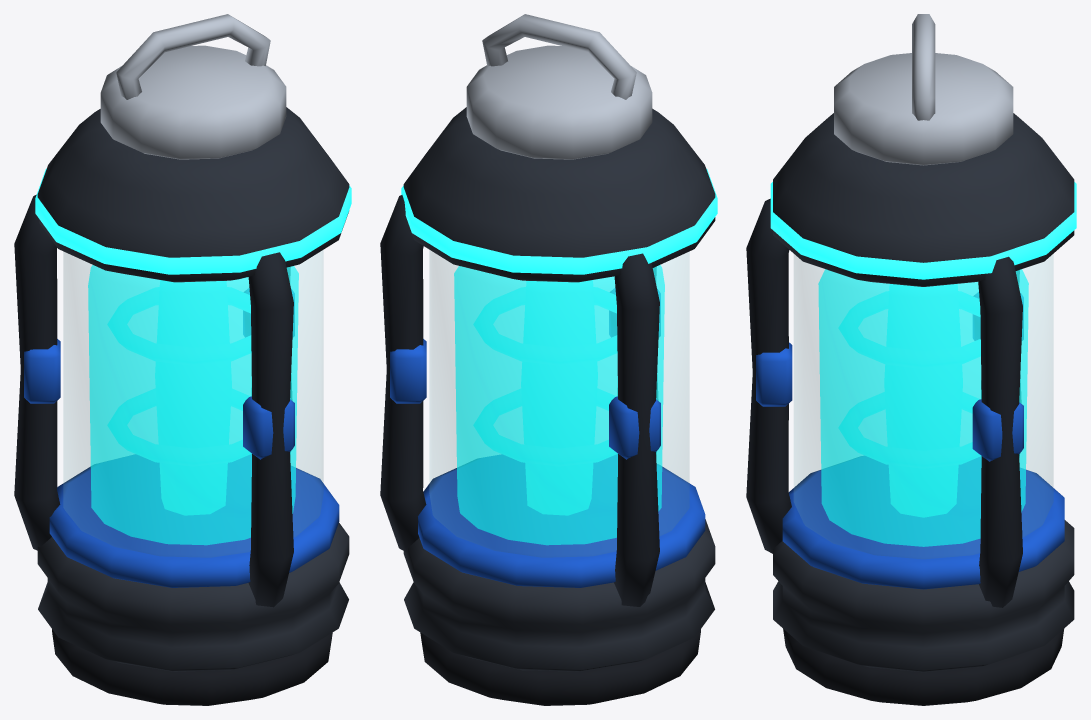
The model's file is item_shield_cell.glb.
3 views of the same model, side by side, from view 1: azimuth 30°, elevation 25°; view 2: azimuth 150°, elevation 25°; view 3: azimuth 270°, elevation 25° (orthographic).
Parts seen in each view (by area): view 1: GlassViewport, CyanLiquidCore, UpperCap, LowerCap, LowerCobaltRing, ValveTopCap, InnerPlasmaColumn, ArmorStrut_2, ArmorStrut_1, BaseRubberPad, UpperChargeLED, TopClipBail (+4 smaller); view 2: GlassViewport, CyanLiquidCore, UpperCap, LowerCap, LowerCobaltRing, ValveTopCap, InnerPlasmaColumn, ArmorStrut_1, ArmorStrut_0, BaseRubberPad, UpperChargeLED, TopClipBail (+4 smaller); view 3: GlassViewport, CyanLiquidCore, UpperCap, LowerCap, LowerCobaltRing, ValveTopCap, InnerPlasmaColumn, ArmorStrut_0, ArmorStrut_2, BaseRubberPad, UpperChargeLED, CoreEnergyRing_1 (+4 smaller).
Part boxes in pixels (bbox=[...]): GlassViewport: bbox=[64, 251, 322, 556]; CyanLiquidCore: bbox=[88, 265, 298, 545]; UpperCap: bbox=[37, 107, 349, 282]; LowerCap: bbox=[37, 523, 349, 671]; LowerCobaltRing: bbox=[49, 454, 339, 587]; ValveTopCap: bbox=[100, 45, 286, 159]; InnerPlasmaColumn: bbox=[155, 280, 231, 514]; ArmorStrut_2: bbox=[248, 252, 293, 607]; ArmorStrut_1: bbox=[14, 194, 60, 550]; BaseRubberPad: bbox=[52, 629, 332, 705]; UpperChargeLED: bbox=[35, 168, 351, 274]; TopClipBail: bbox=[116, 14, 270, 99]; GlassViewport: bbox=[430, 250, 688, 556]; CyanLiquidCore: bbox=[454, 265, 664, 545]; UpperCap: bbox=[403, 107, 715, 282]; LowerCap: bbox=[403, 519, 715, 671]; LowerCobaltRing: bbox=[418, 455, 705, 587]; ValveTopCap: bbox=[466, 45, 652, 159]; InnerPlasmaColumn: bbox=[521, 280, 597, 514]; ArmorStrut_1: bbox=[614, 253, 659, 606]; ArmorStrut_0: bbox=[380, 195, 426, 552]; BaseRubberPad: bbox=[420, 629, 700, 705]; UpperChargeLED: bbox=[401, 168, 717, 274]; TopClipBail: bbox=[482, 14, 636, 99]; GlassViewport: bbox=[794, 254, 1052, 558]; CyanLiquidCore: bbox=[818, 269, 1028, 546]; UpperCap: bbox=[773, 113, 1074, 286]; LowerCap: bbox=[773, 520, 1074, 672]; LowerCobaltRing: bbox=[782, 456, 1064, 589]; ValveTopCap: bbox=[834, 53, 1013, 165]; InnerPlasmaColumn: bbox=[885, 284, 962, 516]; ArmorStrut_0: bbox=[978, 256, 1022, 607]; ArmorStrut_2: bbox=[746, 198, 791, 553]; BaseRubberPad: bbox=[783, 629, 1063, 705]; UpperChargeLED: bbox=[770, 182, 1076, 279]; CoreEnergyRing_1: bbox=[839, 291, 980, 368].
Bounding box in the file's own units: 0.191 × 0.4207 × 0.201.
